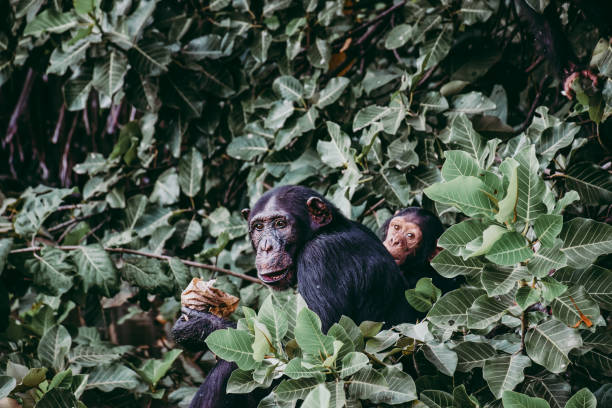chimpanzee: (239, 178, 324, 291), (381, 196, 439, 282)
